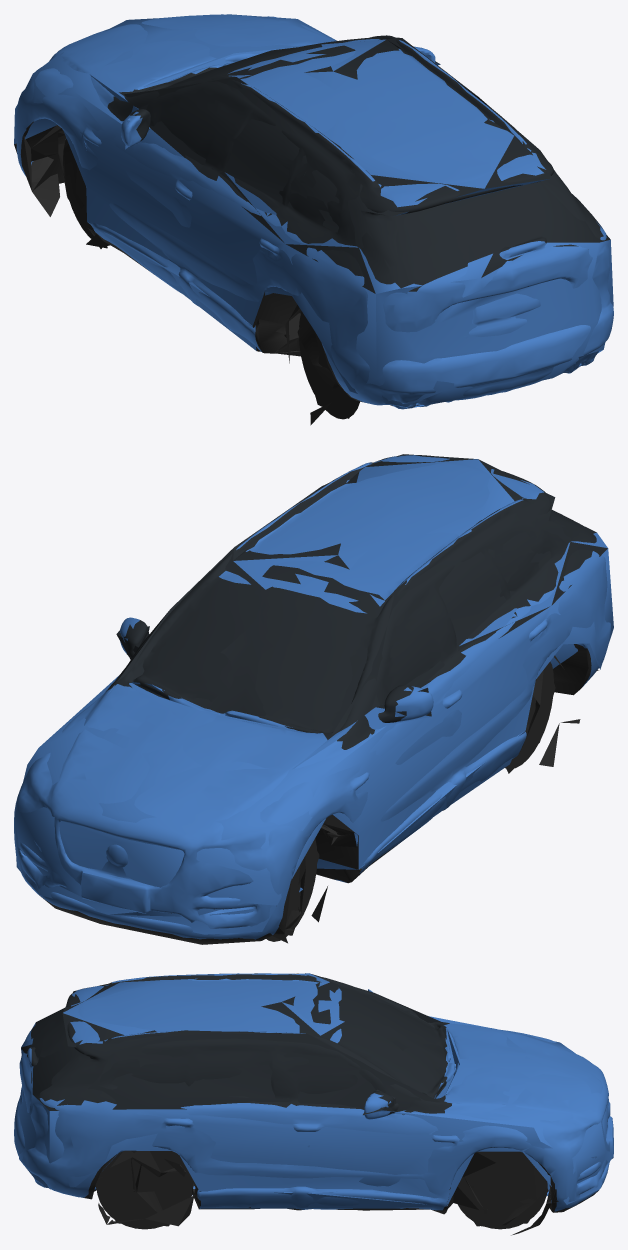
File: jaguar-f-pace.glb
The picture shows the model from 3 angles, top to bottom: view 1: azimuth 30°, elevation 25°; view 2: azimuth 150°, elevation 25°; view 3: azimuth 270°, elevation 25°; orthographic projection. The views are drawn at different scales.
Parts seen in each view (by area): view 1: body, far; view 2: body, far; view 3: body, far.
Boxes of the visible parts, x1,y1,x2,y2 form: body: [15, 14, 613, 419]; far: [14, 14, 613, 425]; body: [14, 455, 610, 944]; far: [15, 454, 613, 935]; body: [14, 973, 613, 1235]; far: [18, 973, 612, 1226].
Size of the model in its own units: 2.18 by 1.72 by 4.8.
